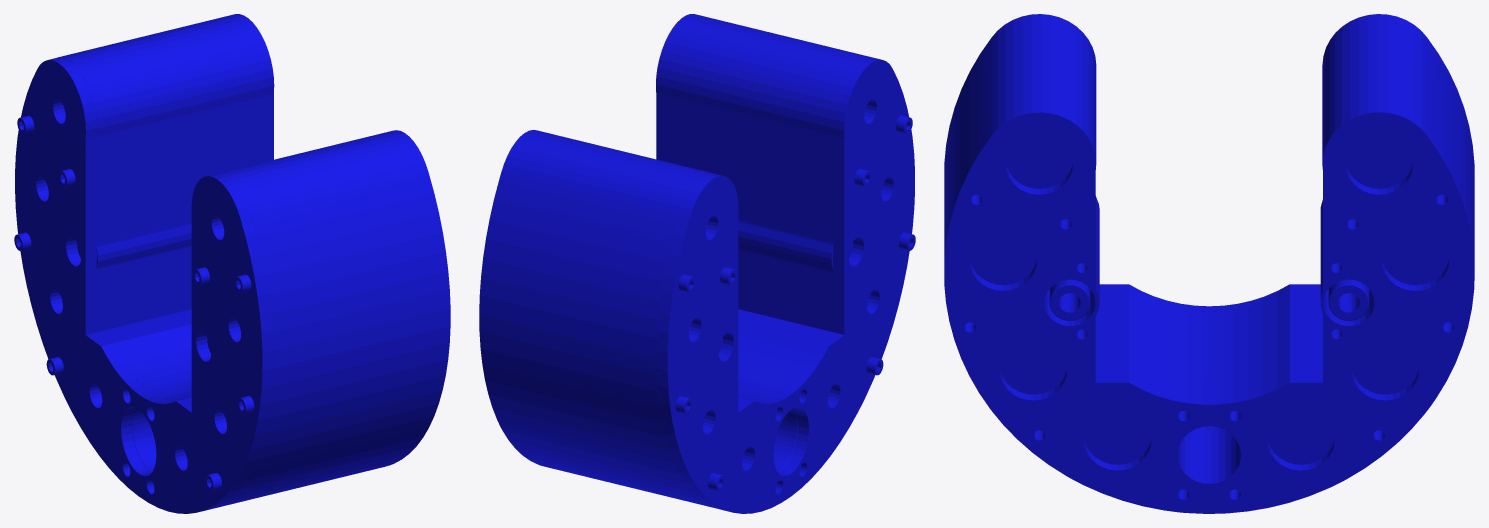
File: mass_shifter.dae
3 views of the same model, side by side, from view 1: azimuth 30°, elevation 25°; view 2: azimuth 150°, elevation 25°; view 3: azimuth 270°, elevation 25° (orthographic). The views are drawn at different scales.
Visible parts, largest first — view 1: Translation counterWeight; view 2: Translation counterWeight; view 3: Translation counterWeight.
Boxes of the visible parts, x1,y1,x2,y2 form: Translation counterWeight: [14, 14, 450, 513]; Translation counterWeight: [479, 14, 915, 513]; Translation counterWeight: [944, 14, 1474, 513].
Size of the model in its own units: 90 by 196 by 164.
